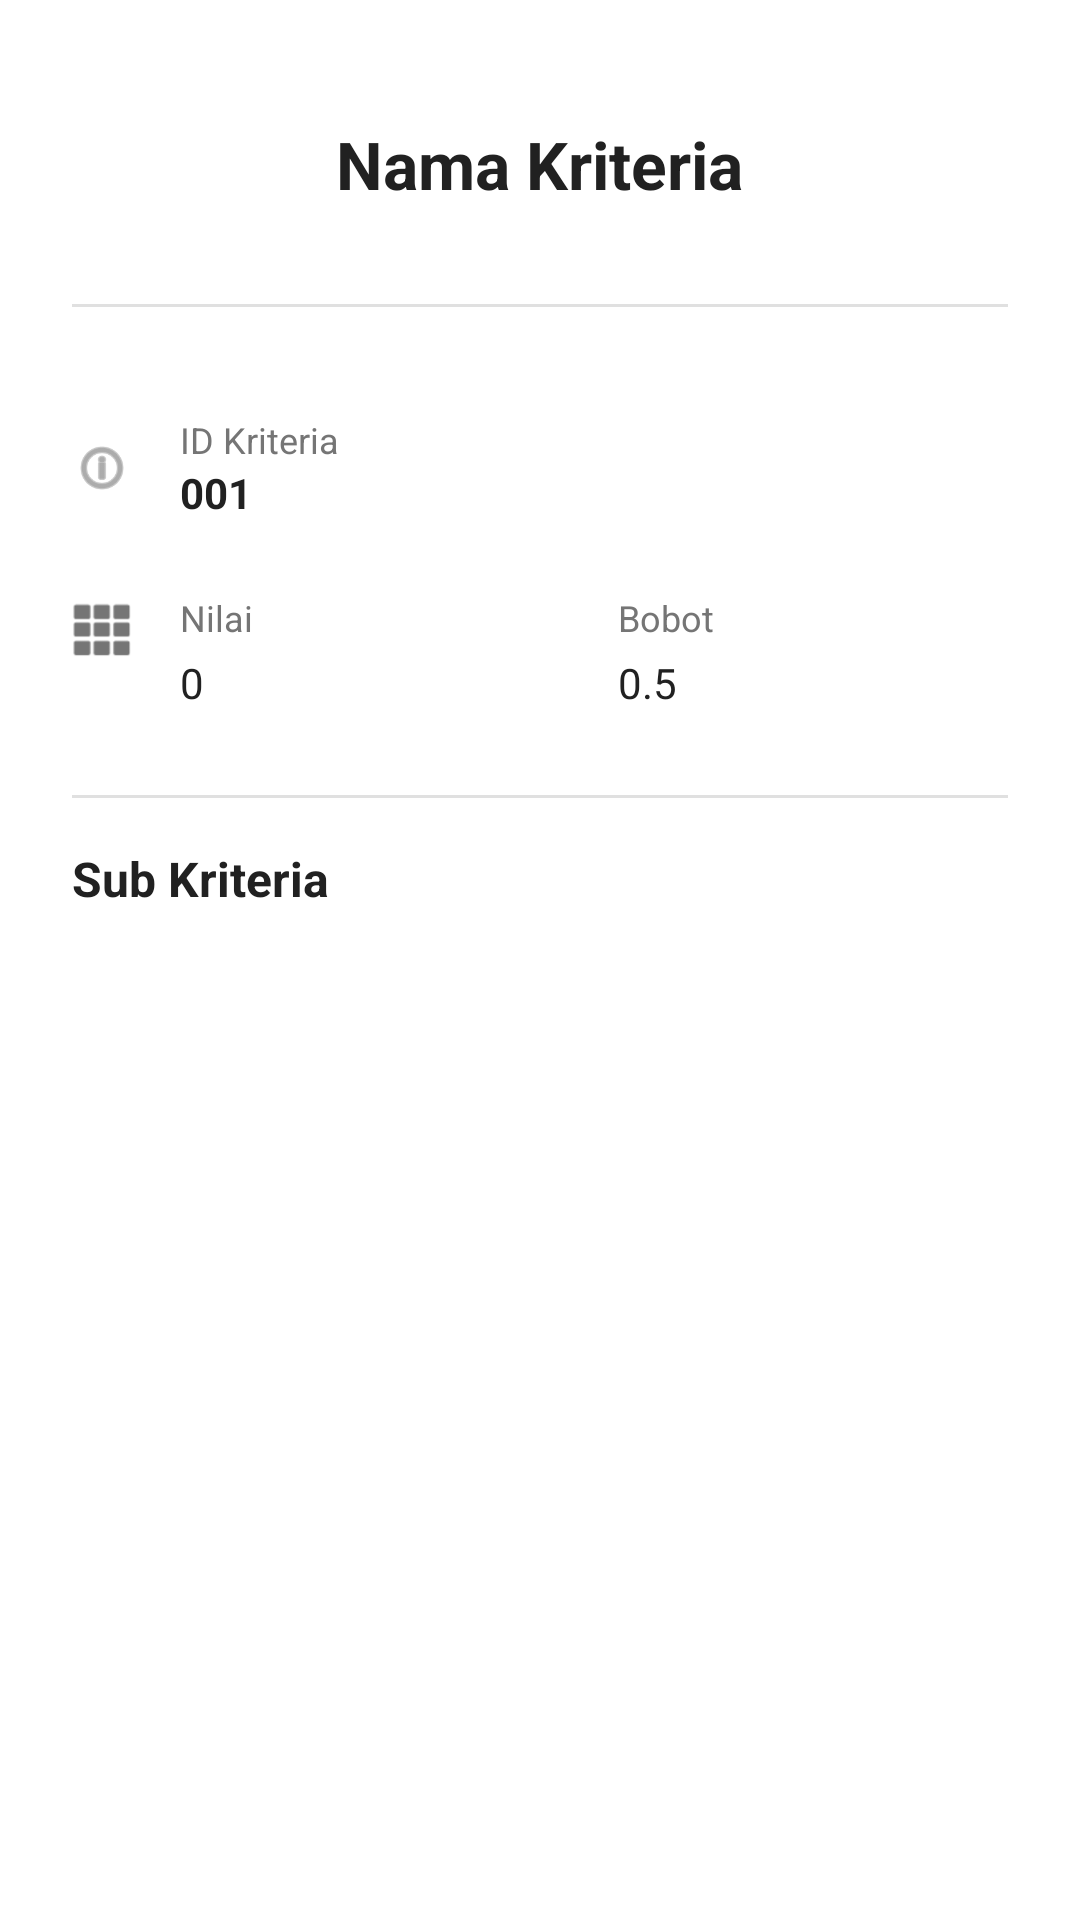

Where icons sit on this 1080px x 1920px app screen, as BBox(x1, y1, x2, y2):
dialer: BBox(73, 604, 130, 656)
info details: BBox(81, 447, 123, 489)
